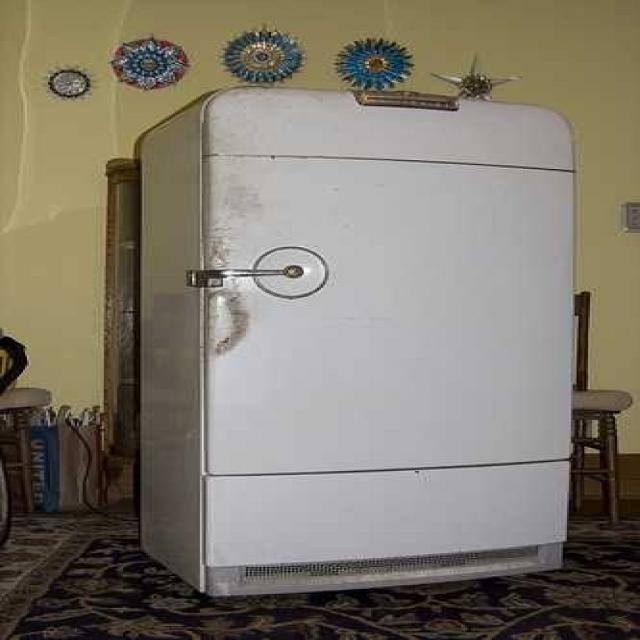refrigerator: (192, 82, 584, 585)
